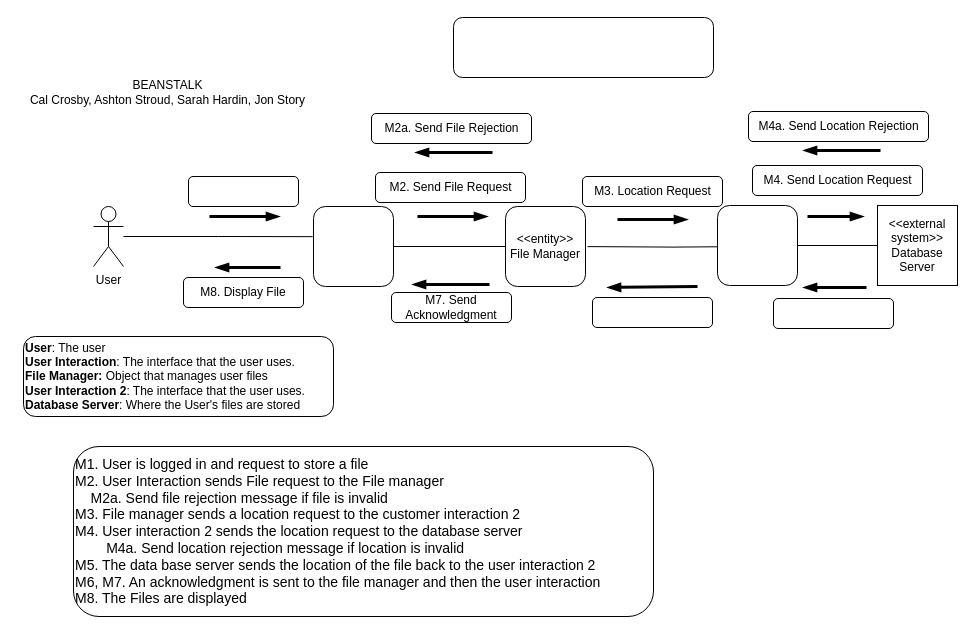
This 975x634 diagram has some shape labels left out. The shapes that lost their labels are listed below. From the top down, each one's box as (x1, y1, x2, y2) in pixels, then its label:
(452, 16, 714, 78): Store New Podcast Interaction Diagram
(188, 176, 298, 206): M1. File Request
(312, 206, 394, 286): <<user interaction>> User Interaction
(716, 204, 798, 286): <<user interaction>> User Interaction 2
(592, 296, 712, 328): M6. Send Acknowledgment
(772, 298, 894, 328): M5. Send Location
